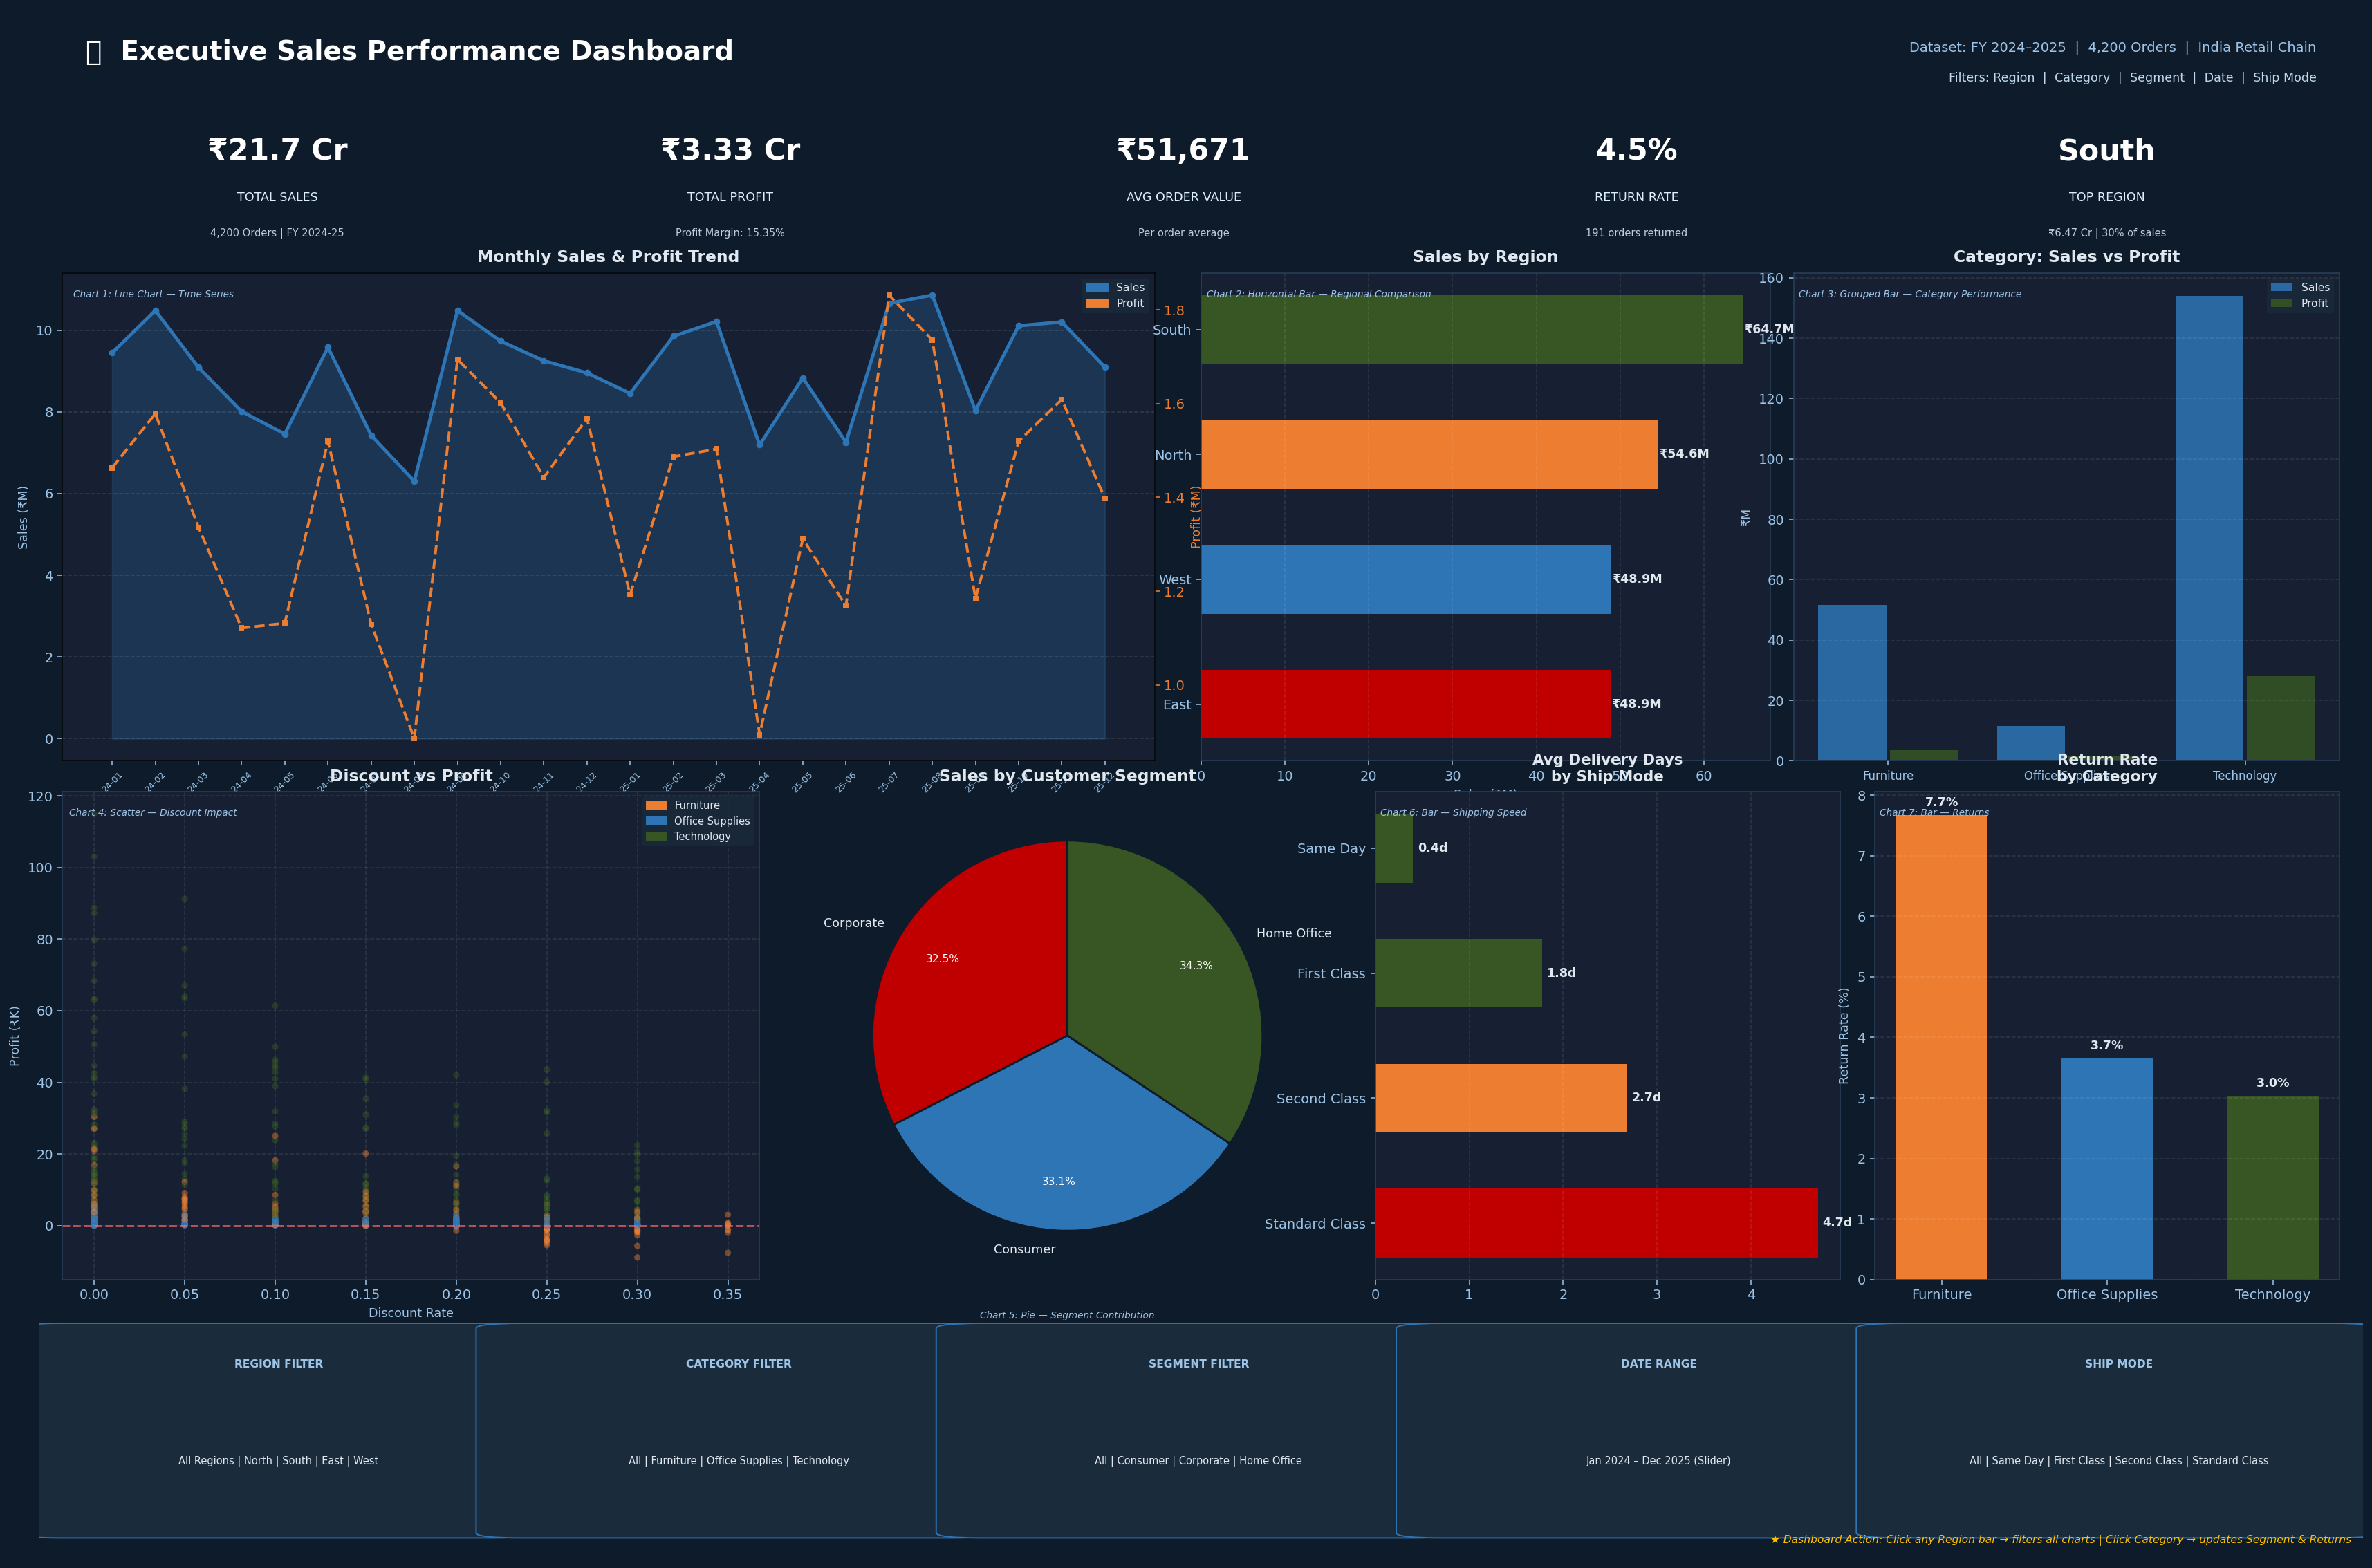

The page's visual inventory and layout, read from the dashboard file:
{"tool":"tableau","page":{"name":"Executive Dashboard","canvas":[1000,800],"ordinal":0},"visuals":[{"type":"worksheet","title":"Sales Trend","mark":"Automatic","rows":["sales","profit"],"cols":["order_date"],"box":[11,14,333,266]},{"type":"worksheet","title":"Regional Performance","mark":"Automatic","rows":["region"],"cols":["sales"],"box":[368,27,573,266]},{"type":"worksheet","title":"Customer Segment Performance","mark":"Automatic","rows":["sales"],"cols":["region","customer_segment"],"box":[457,274,489,256]},{"type":"worksheet","title":"Sub Category Profitability","mark":"Automatic","rows":["sub_category"],"cols":["profit"],"box":[14,311,392,251]},{"type":"worksheet","title":"Discount vs Profit","mark":"Circle","rows":["profit"],"cols":["discount"],"box":[481,525,480,255]},{"type":"worksheet","title":"Shipping Performance","mark":"Automatic","rows":["ship_mode"],"cols":["region","delivery_days"],"box":[20,556,396,247]}]}

Visuals, with their boxes on the page's 1000x800 design canvas (x1, y1, x2, y2). These are canvas units, not pixel positions in the 2372x1568 screenshot, which may show the page scaled, cropped or inside an application window:
"Sales Trend" worksheet: Rect(11, 14, 344, 280)
"Regional Performance" worksheet: Rect(368, 27, 941, 293)
"Customer Segment Performance" worksheet: Rect(457, 274, 946, 530)
"Sub Category Profitability" worksheet: Rect(14, 311, 406, 562)
"Discount vs Profit" worksheet (Circle marks): Rect(481, 525, 961, 780)
"Shipping Performance" worksheet: Rect(20, 556, 416, 803)
